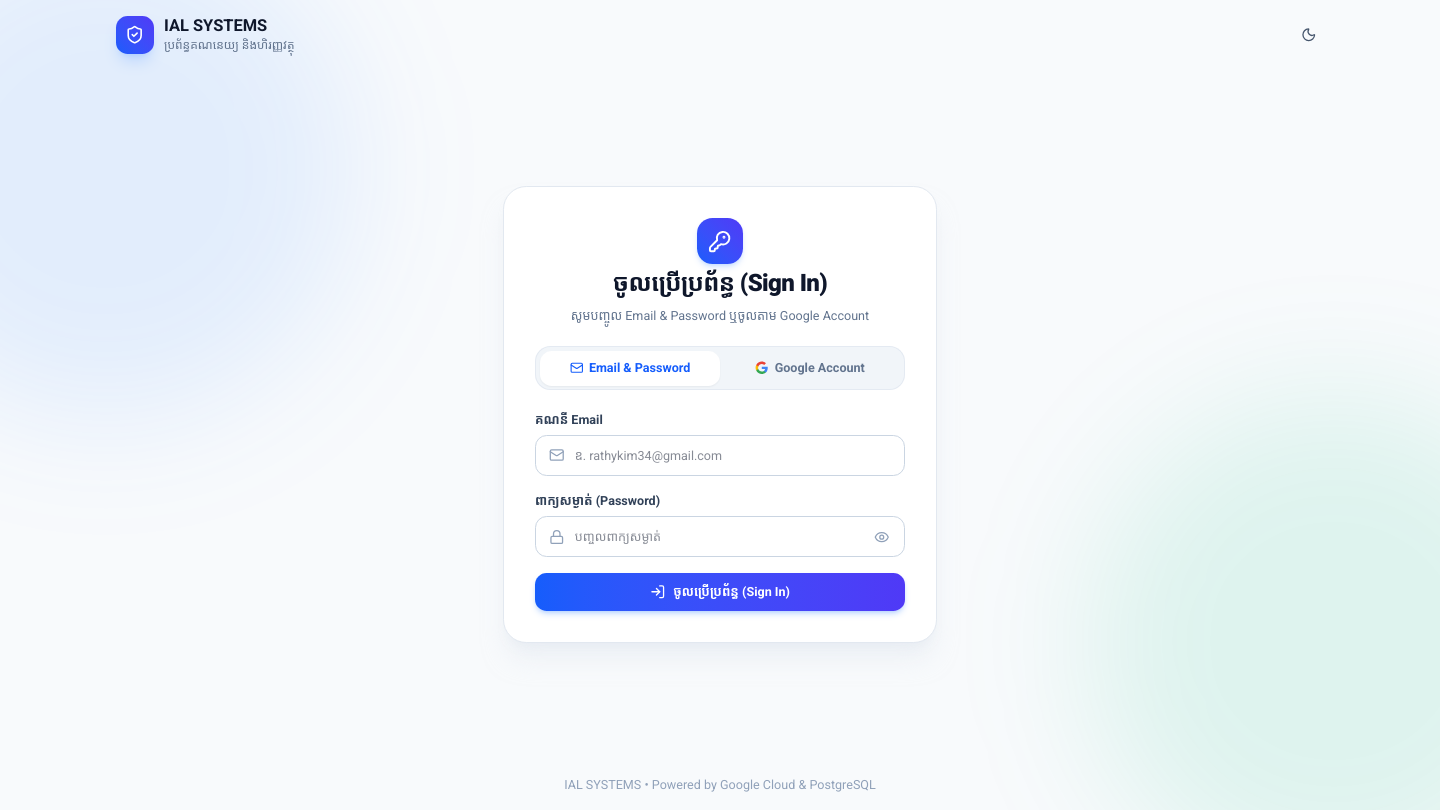
Test case: LoginView Integration Tests (Form Validation & Mock API) › should display error when API rejects invalid credentials
The image size is (1440, 810).
In the field with placeholder "ឧ. rathykim34@gmail.com": (720, 455) x1=535 y1=435 x2=905 y2=476, type "staff@ialsystems.com"
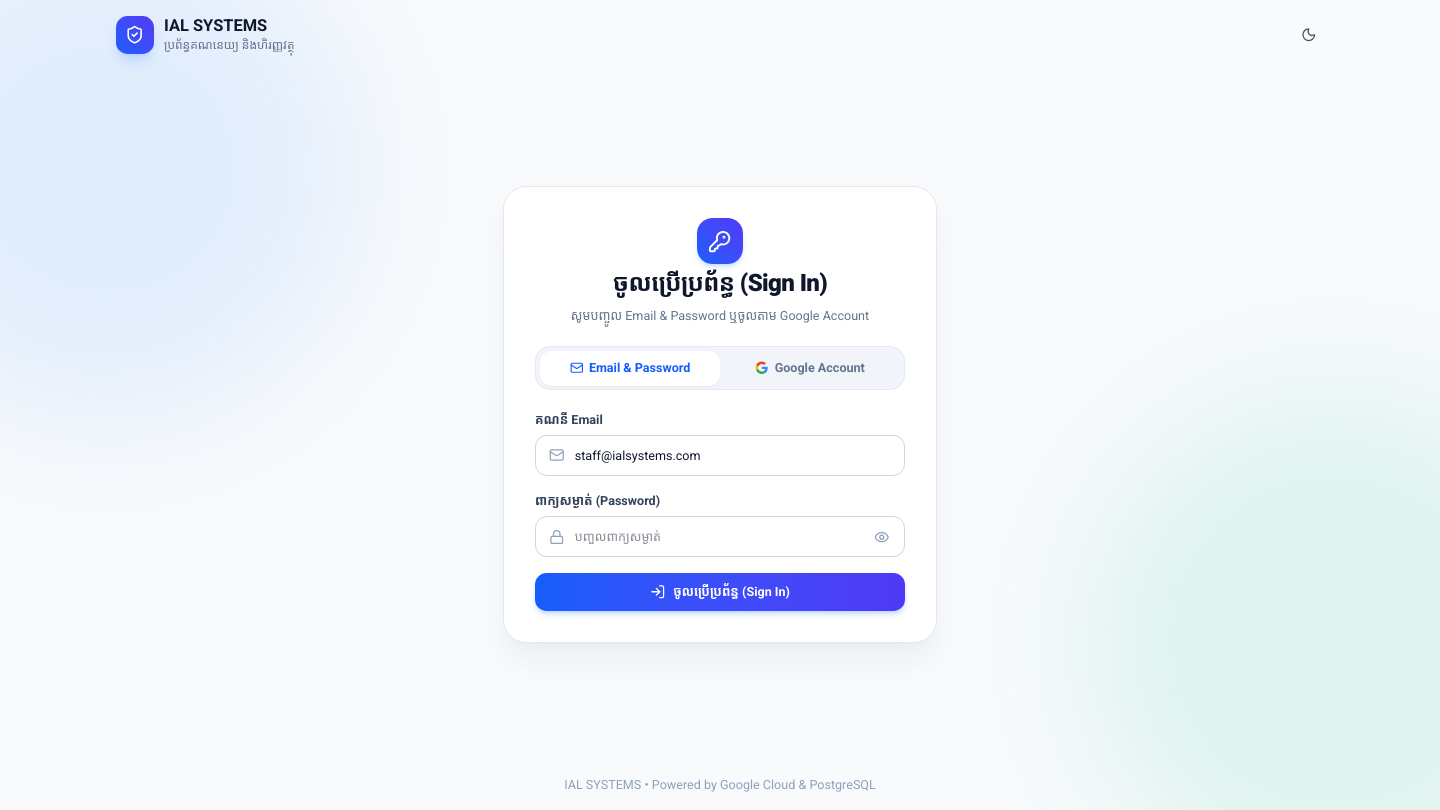
In the password field with placeholder "បញ្ចូលពាក្យសម្ងាត់": (720, 537) x1=535 y1=516 x2=905 y2=557, type "wrongpassword"
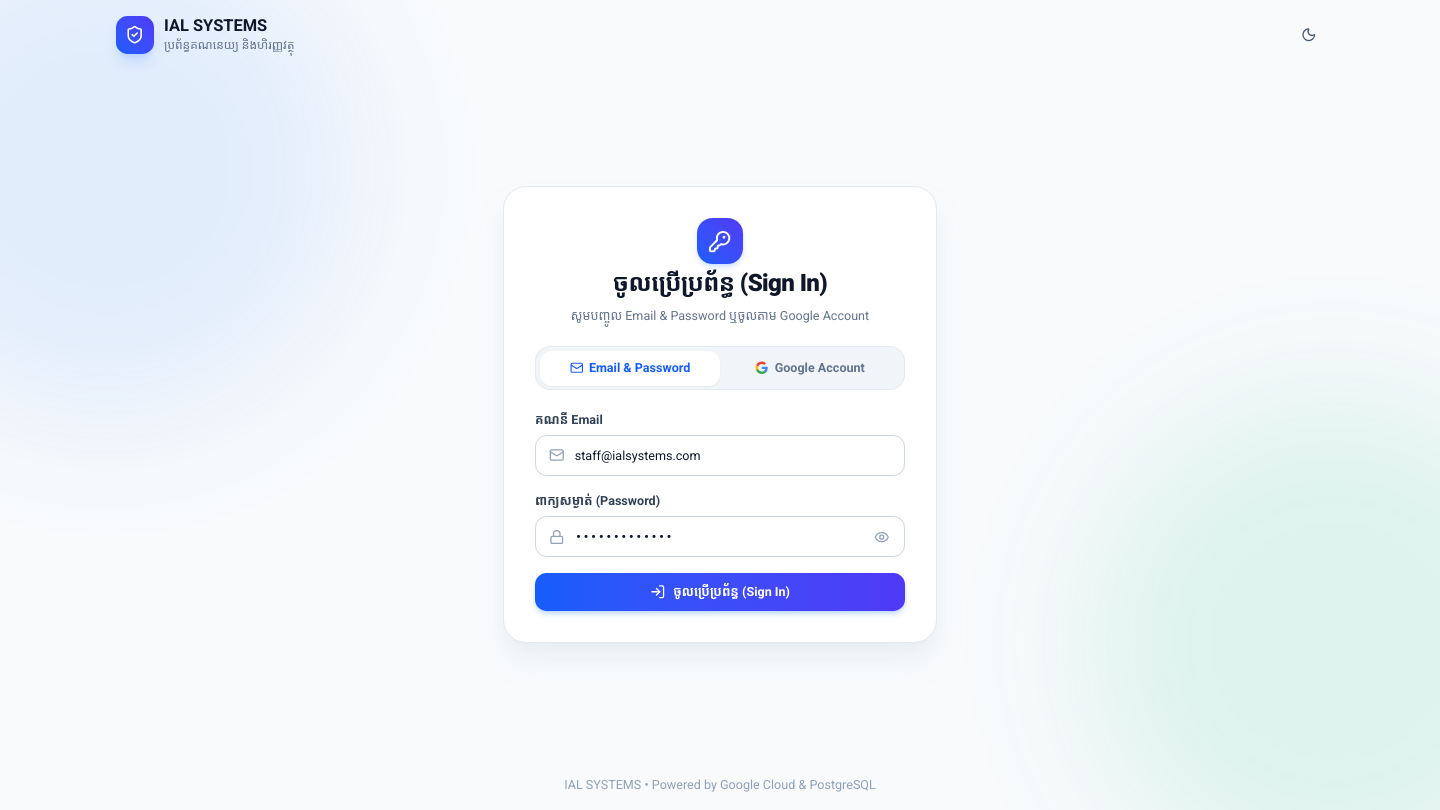
Click the button "ចូលប្រើប្រព័ន្ធ (Sign In)": (720, 592) x1=535 y1=573 x2=905 y2=611
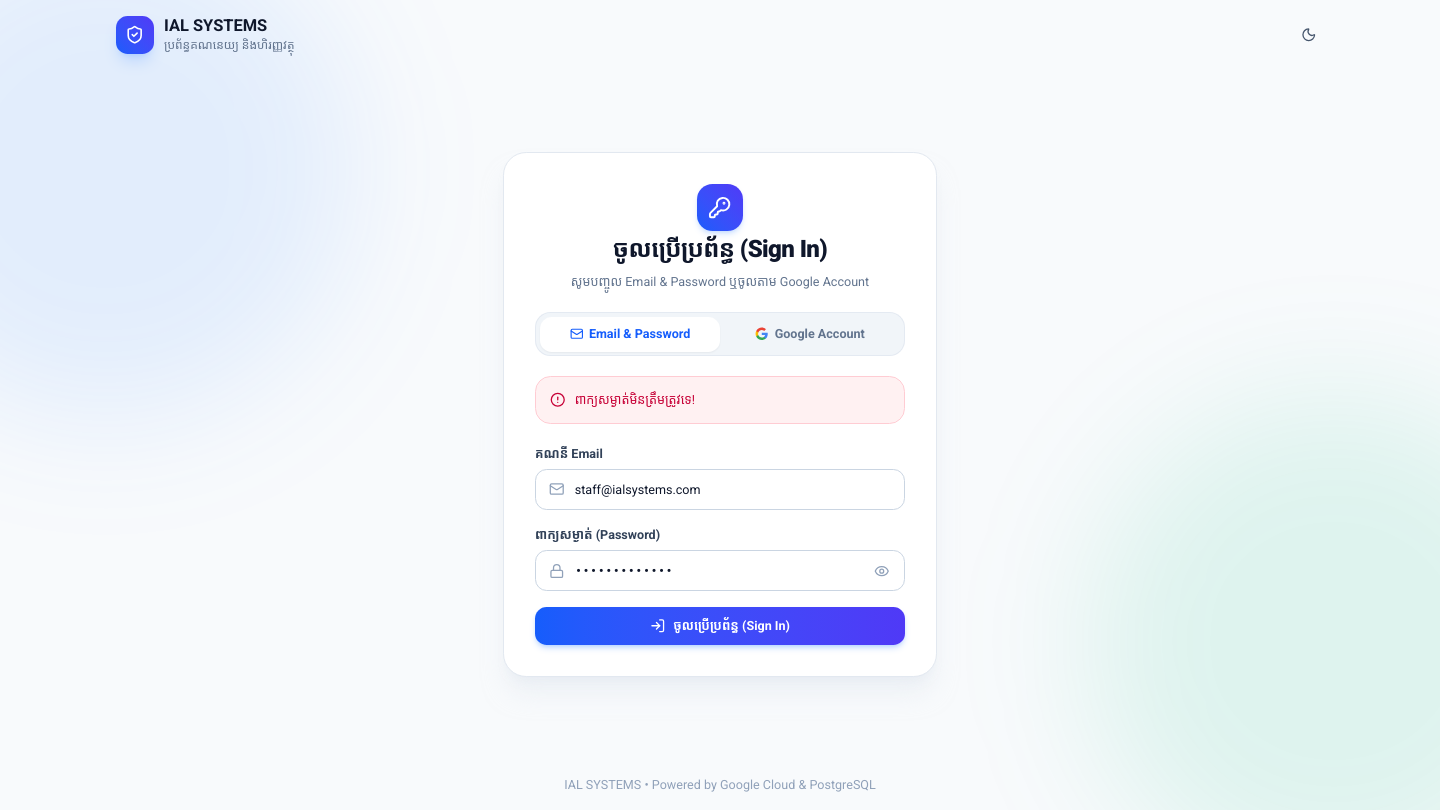
expect the text "ពាក្យសម្ងាត់មិនត្រឹមត្រូវទេ!" is shown: met, box x1=575 y1=390 x2=695 y2=410
